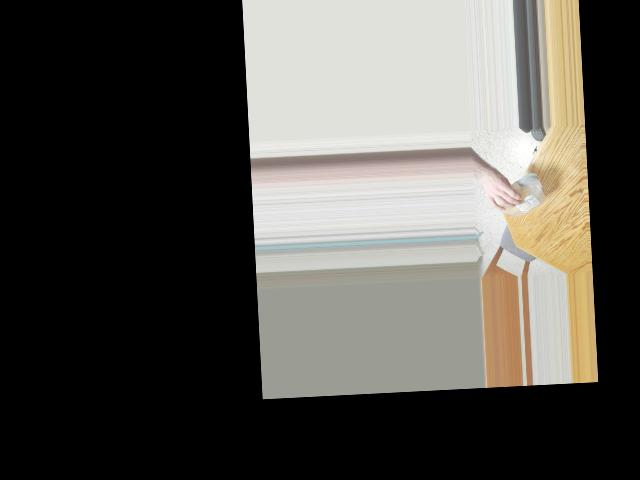cheese: (500, 184, 542, 215)
